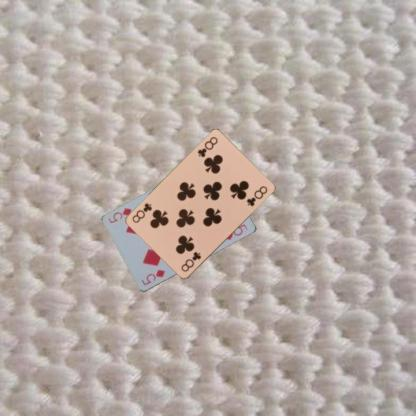5d: (138, 267, 166, 287)
8c: (194, 134, 219, 159), (178, 249, 202, 274)
